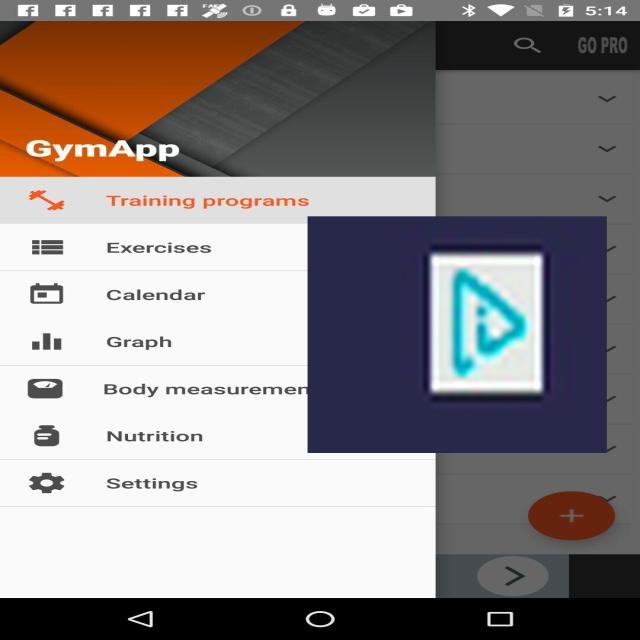sneaking: (307, 216, 607, 453)
